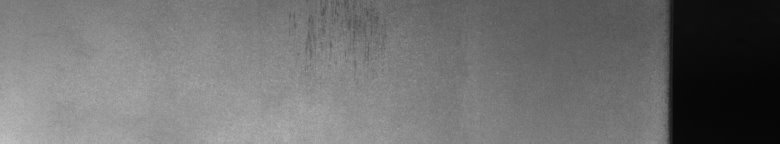ka: (289, 4, 379, 56)
